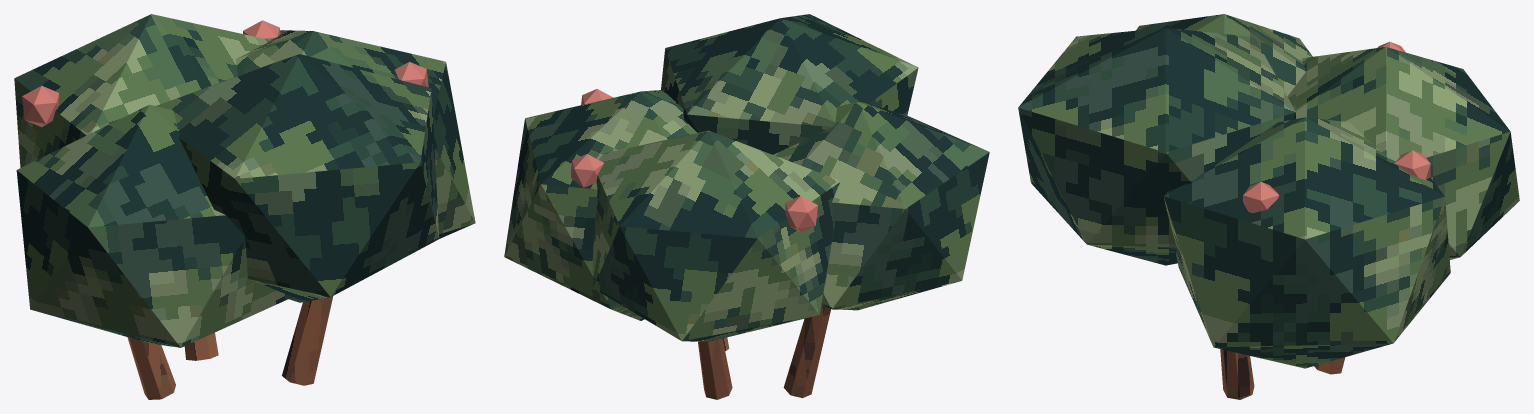
Rendered from arbusto.glb.
3 views of the same model, side by side, from view 1: azimuth 30°, elevation 25°; view 2: azimuth 150°, elevation 25°; view 3: azimuth 270°, elevation 25° (orthographic). The views are drawn at different scales.
Parts seen in each view (by area): view 1: bosque_arbusto; view 2: bosque_arbusto; view 3: bosque_arbusto.
Part boxes in pixels (<box>): bosque_arbusto: <box>14,14,475,399</box>; bosque_arbusto: <box>504,14,989,399</box>; bosque_arbusto: <box>1018,14,1519,399</box>.
Size of the model in its own units: 0.6892 by 0.5252 by 0.6839.
3 materials, 2 textured.
